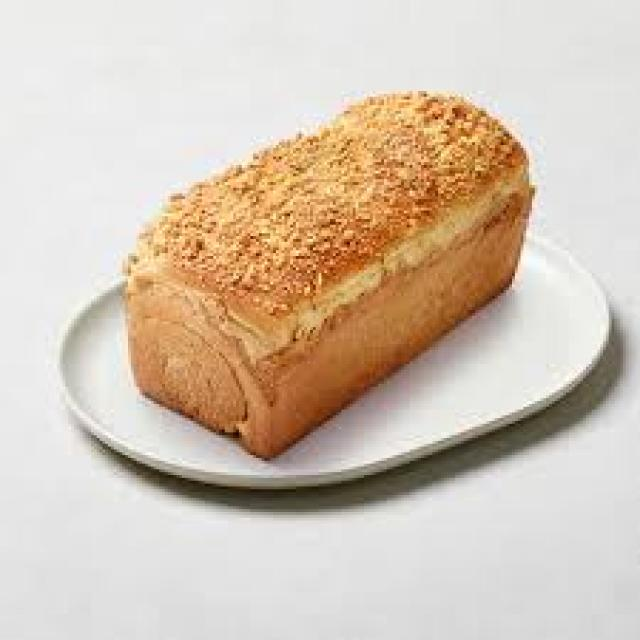bread: (125, 91, 528, 462)
